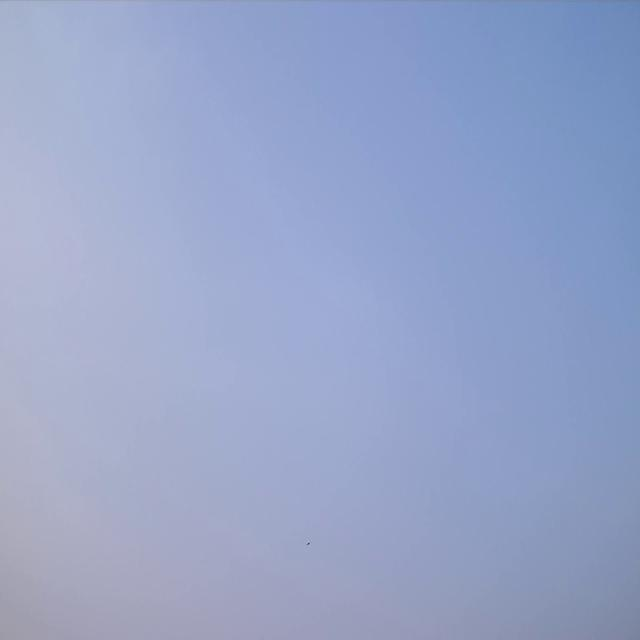UAV: (306, 540, 310, 546)
